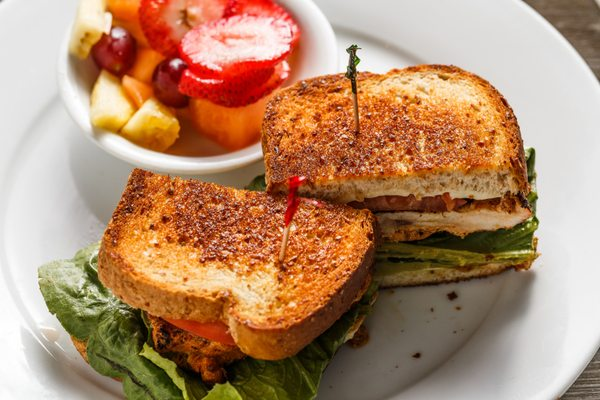soup: (37, 171, 381, 395), (258, 61, 542, 287)
sushi: (58, 0, 308, 176)
